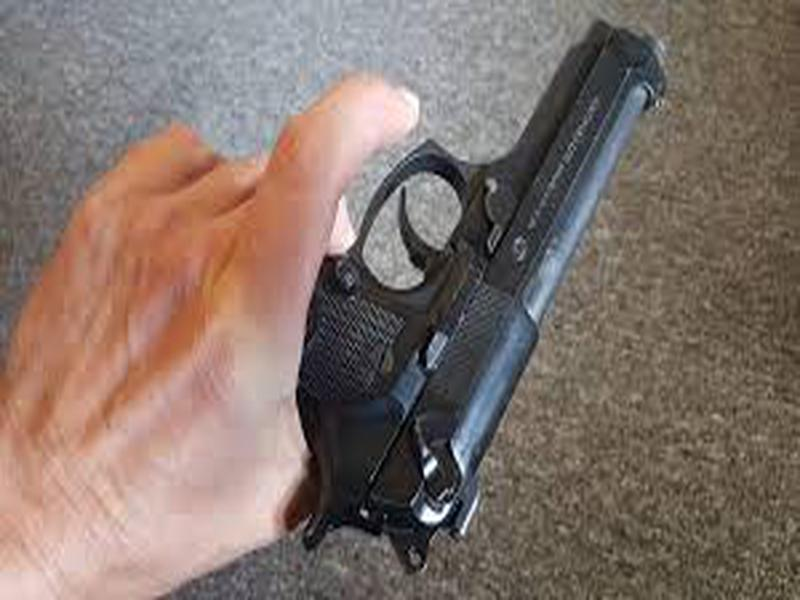gun: (152, 12, 674, 585)
